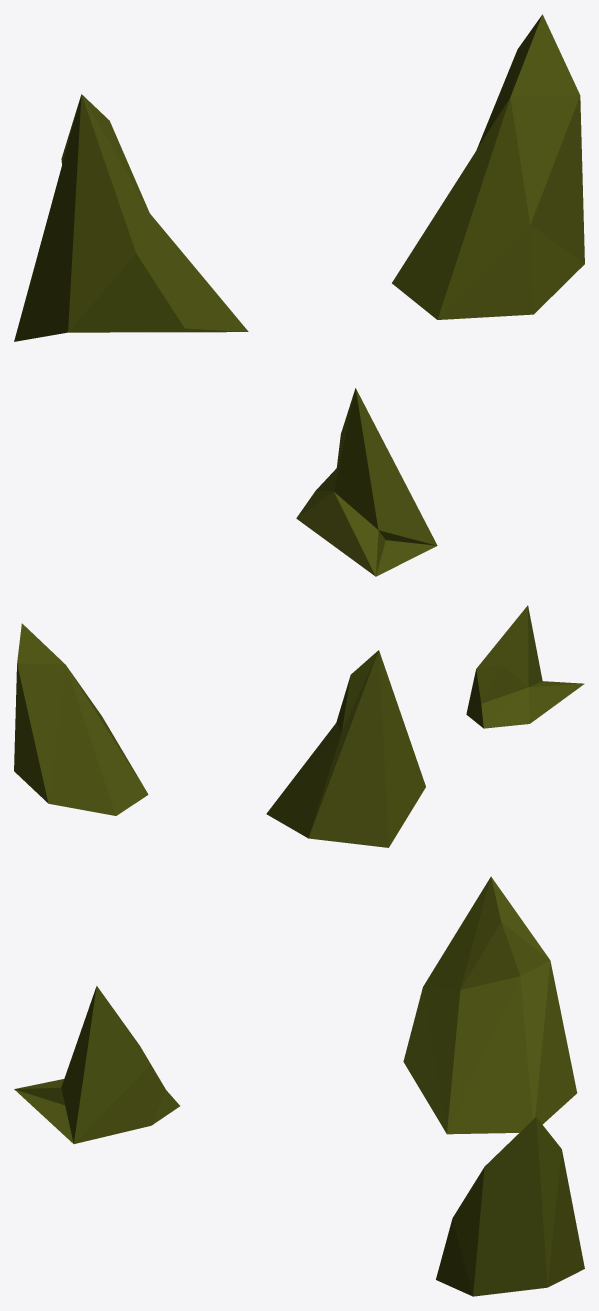
Rendered from plane_lava_rock02.FBX.
The picture shows the model from 3 angles, top to bottom: view 1: azimuth 30°, elevation 25°; view 2: azimuth 150°, elevation 25°; view 3: azimuth 270°, elevation 25°; orthographic projection. The views are drawn at different scales.
Parts seen in each view (by area): view 1: rock002; view 2: rock002; view 3: rock002.
Boxes of the visible parts, x1,y1,x2,y2 form: rock002: (14, 14, 584, 576); rock002: (14, 605, 584, 847); rock002: (14, 876, 584, 1296).
Size of the model in its own units: 28.42 by 15.31 by 32.59.
